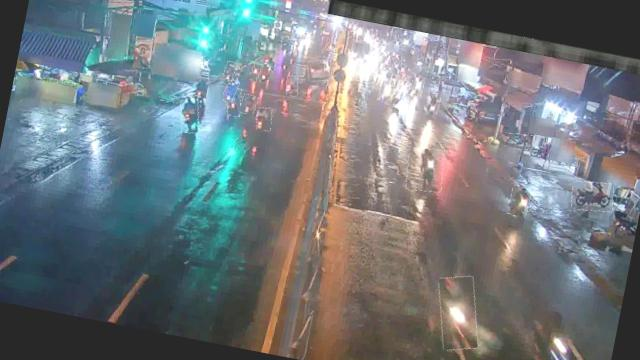Bike: (429, 272, 486, 354), (402, 146, 448, 194), (568, 177, 616, 215), (175, 94, 202, 134), (507, 185, 532, 218), (502, 131, 534, 151), (392, 78, 411, 110), (225, 87, 244, 117), (254, 106, 274, 132), (238, 94, 258, 116), (283, 74, 300, 98), (222, 78, 238, 103), (424, 92, 441, 114), (222, 60, 236, 85), (193, 77, 210, 96), (412, 77, 424, 97), (250, 62, 262, 81)
Car: (304, 56, 334, 84)
